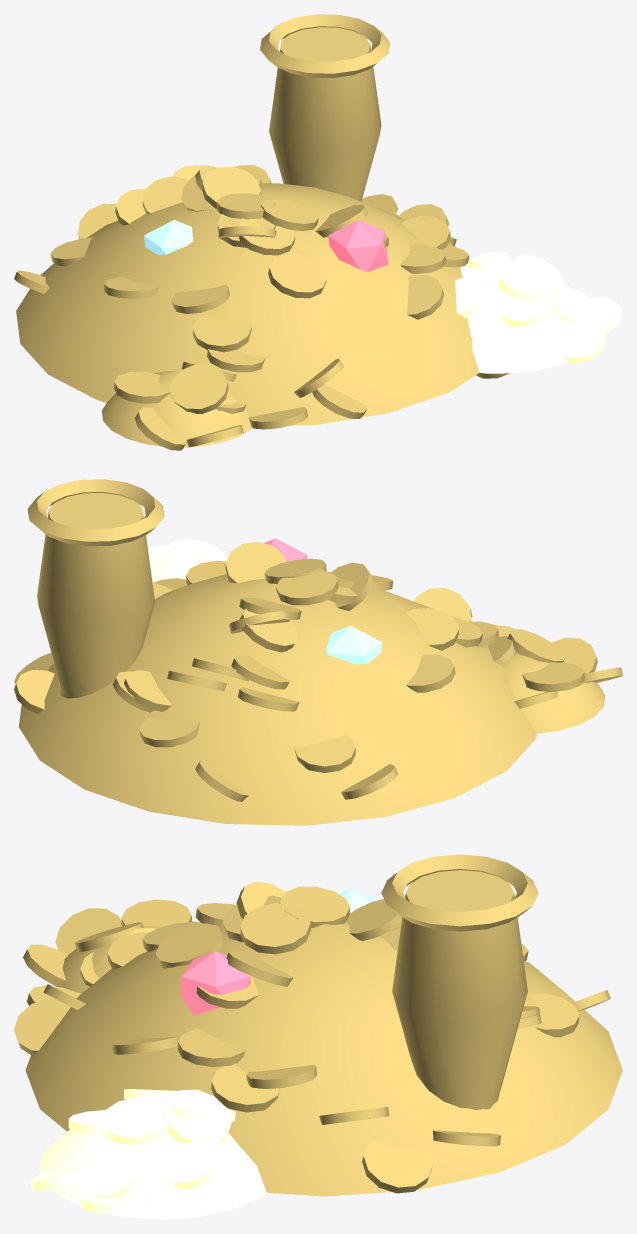
The model's file is gold_pile.glb.
3 renders of one model, top to bottom at view 1: azimuth 30°, elevation 25°; view 2: azimuth 150°, elevation 25°; view 3: azimuth 270°, elevation 25°, orthographic. The views are drawn at different scales.
Parts seen in each view (by area): view 1: gold_pile; view 2: gold_pile; view 3: gold_pile.
Part boxes in pixels (x1,y1,x2,y2): gold_pile: (14,14,622,450); gold_pile: (14,479,622,825); gold_pile: (14,854,622,1219).
Size of the model in its own units: 0.5029 by 0.2176 by 0.4484.
